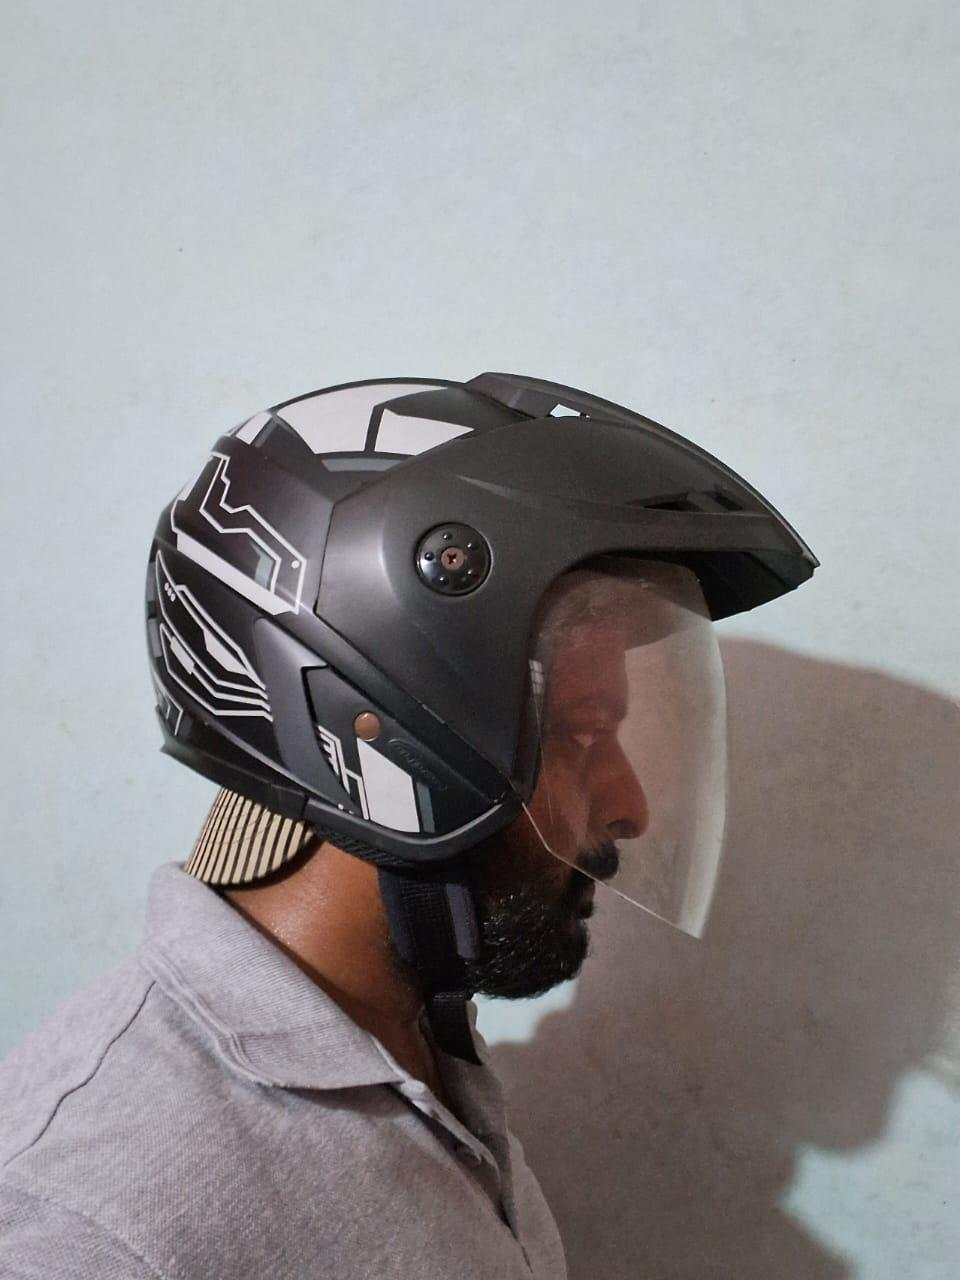helmet: (137, 370, 821, 946)
